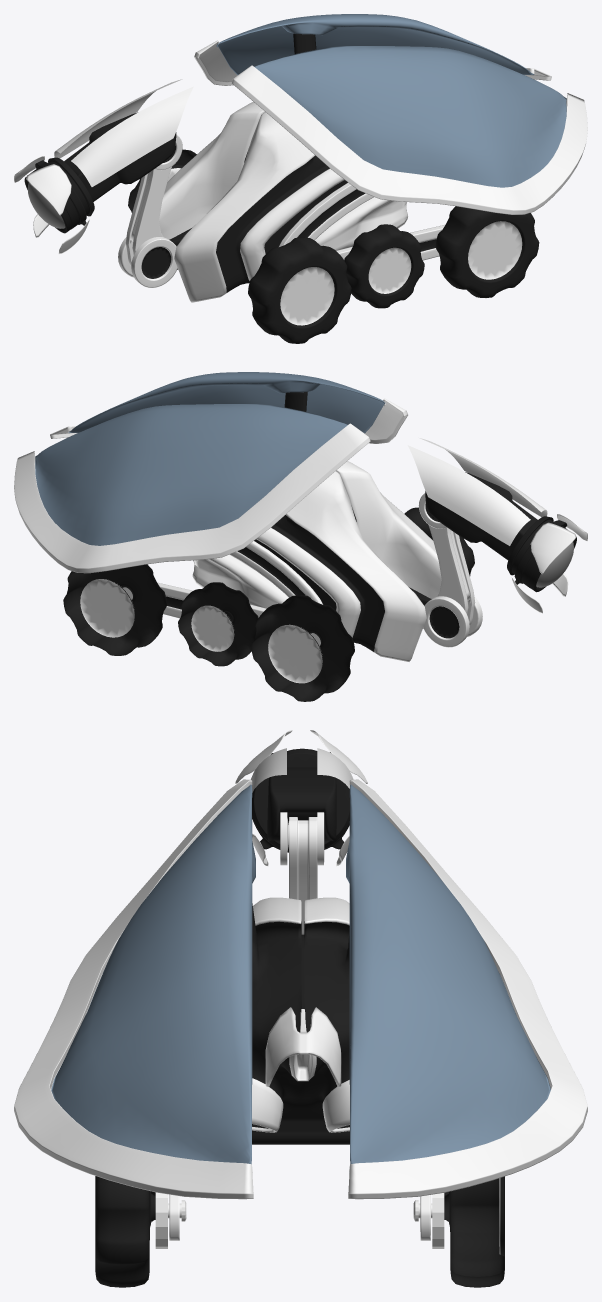
Rendered from RoverFInal.FBX.
3 views of the same model, one above another, from view 1: azimuth 30°, elevation 25°; view 2: azimuth 150°, elevation 25°; view 3: azimuth 270°, elevation 25° (orthographic). The views are drawn at different scales.
Parts seen in each view (by area): view 1: polySurface1; view 2: polySurface1; view 3: polySurface1.
Part boxes in pixels (left/top/right/bottom): polySurface1: left=14, top=14, right=587, bottom=343; polySurface1: left=14, top=372, right=587, bottom=701; polySurface1: left=14, top=730, right=587, bottom=1287.
Bounding box in the file's own units: 270 × 115 × 166.
